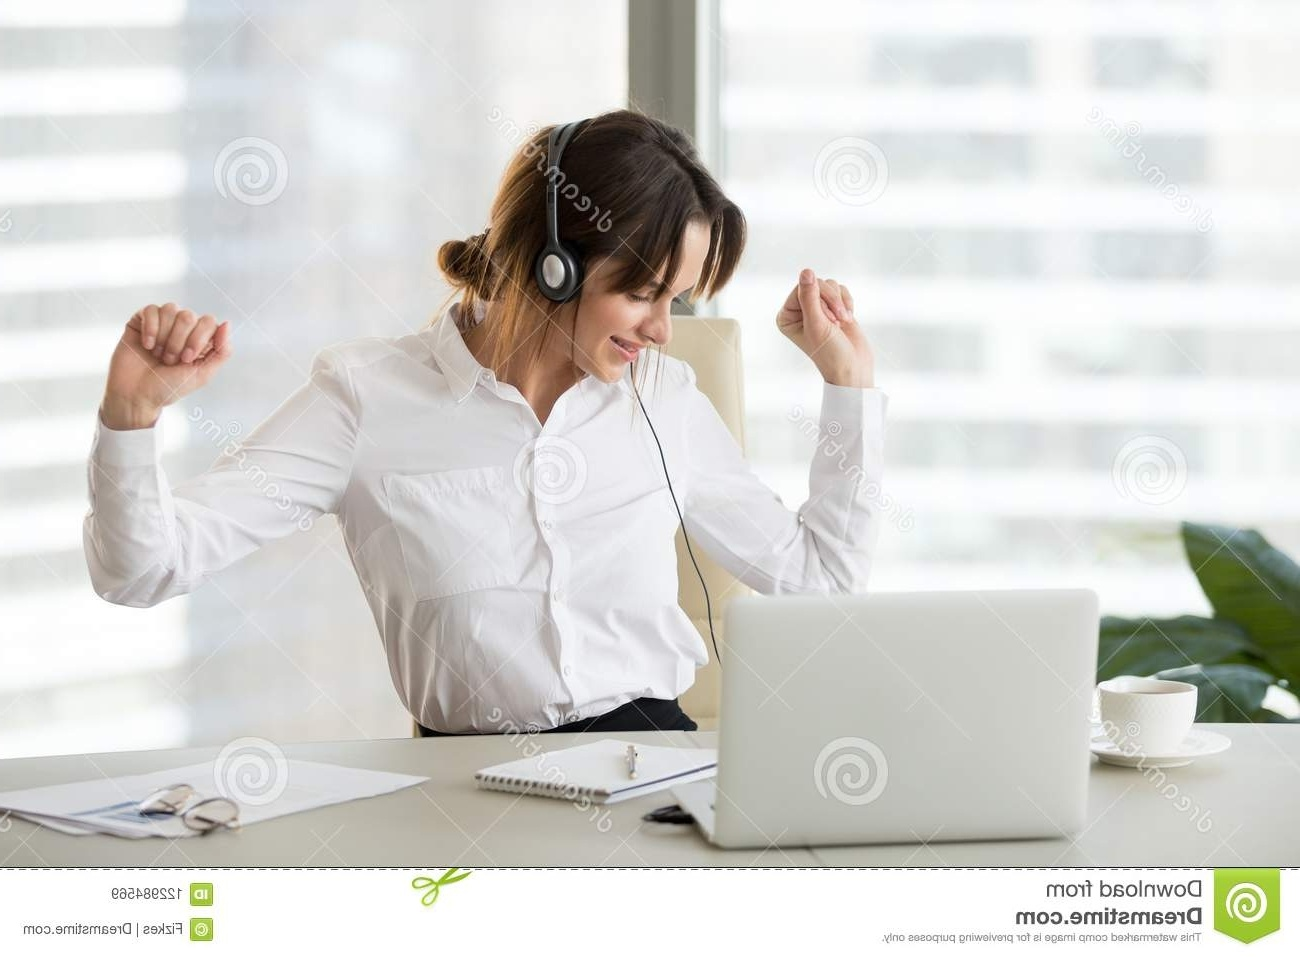not_fallen: (87, 106, 903, 755)
